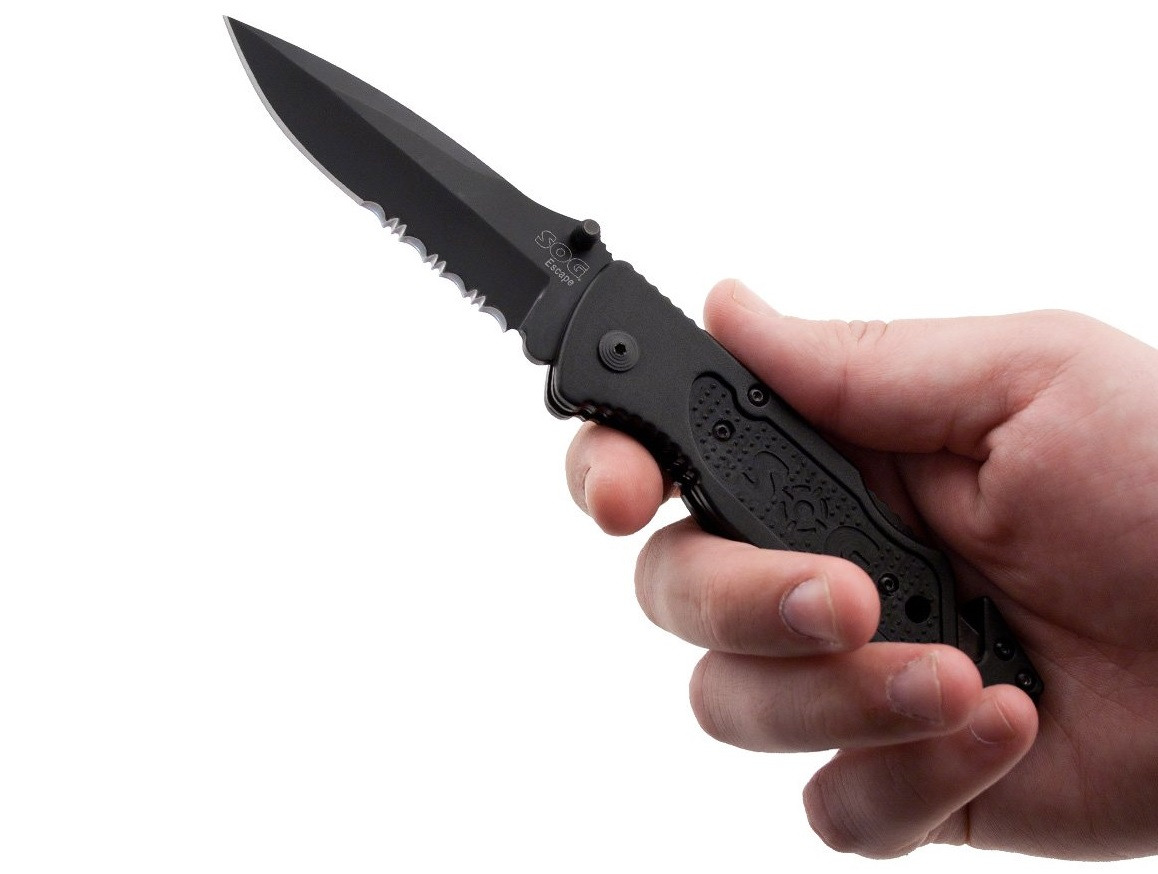knife: (208, 3, 903, 662)
